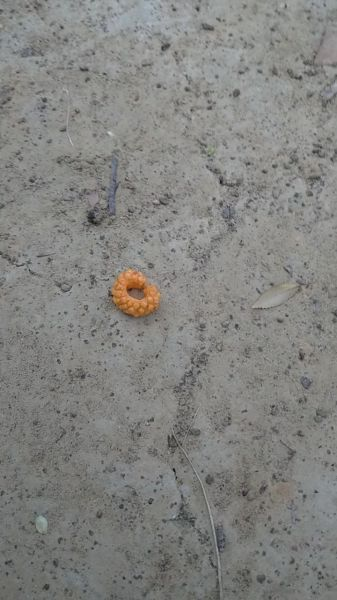eggs: (108, 253, 163, 321)
